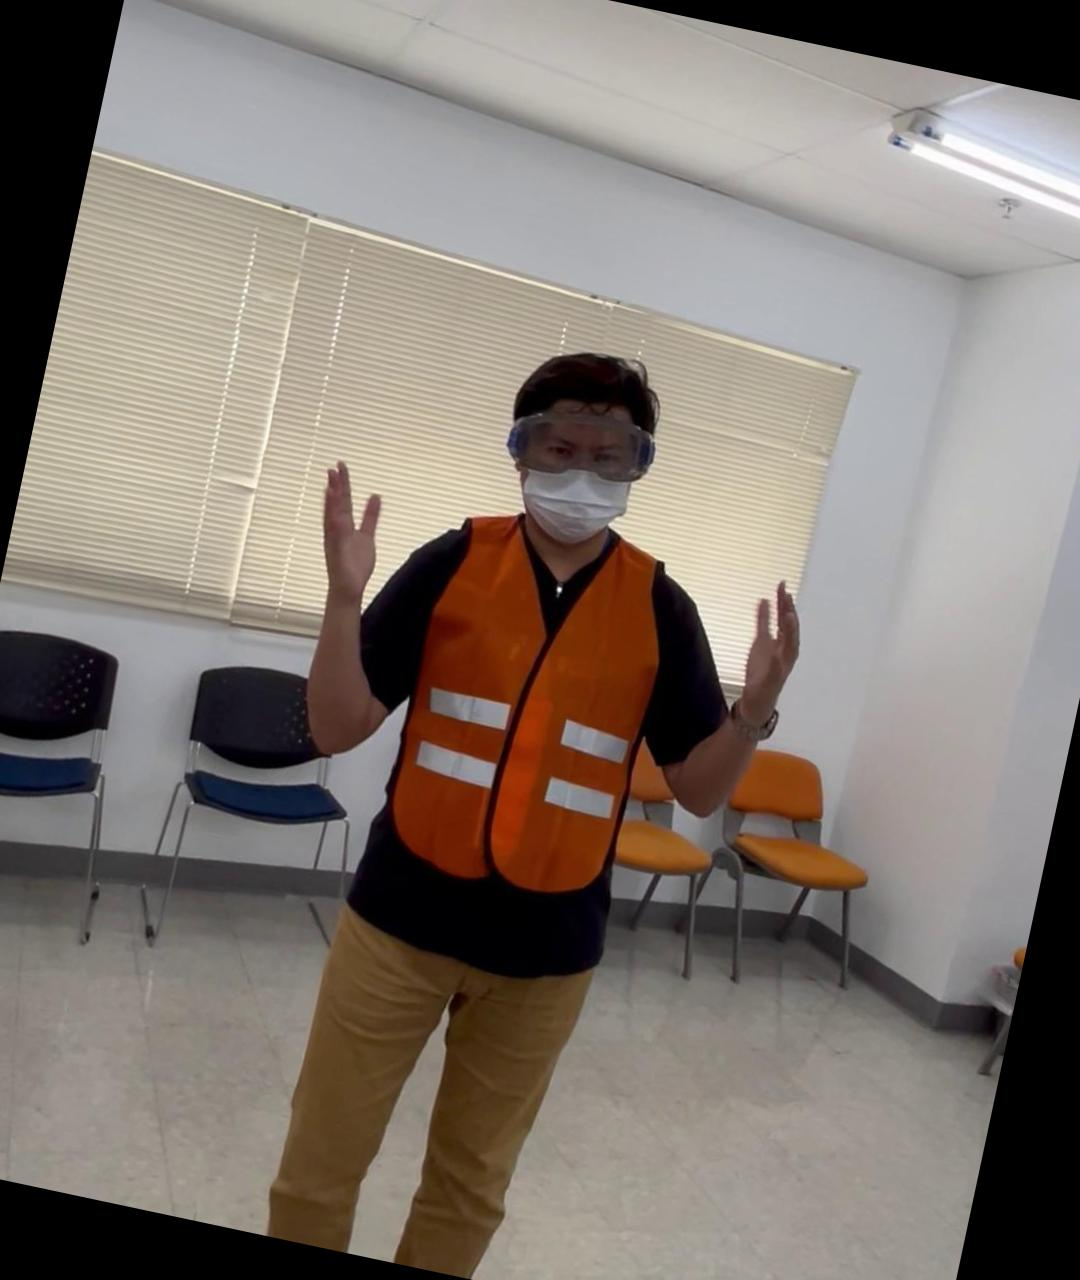No-gloves: (295, 449, 399, 611), (724, 563, 817, 743)
